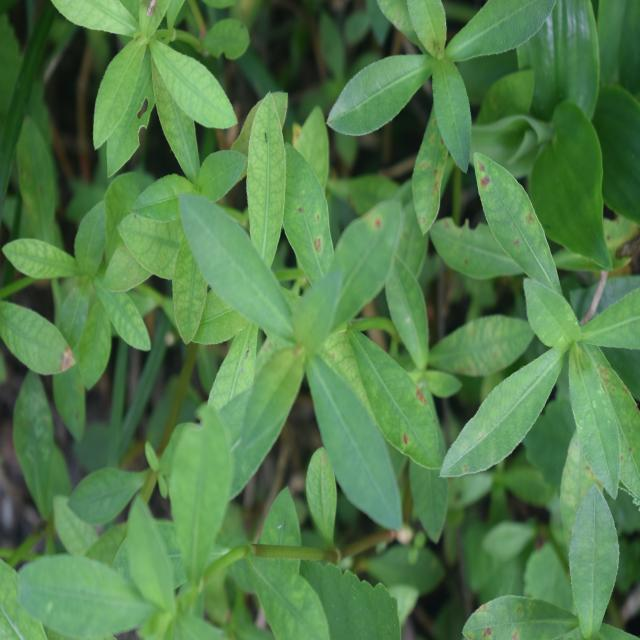Alligatorweed: (164, 105, 439, 540), (451, 189, 635, 500), (307, 0, 543, 224), (57, 0, 239, 166)
